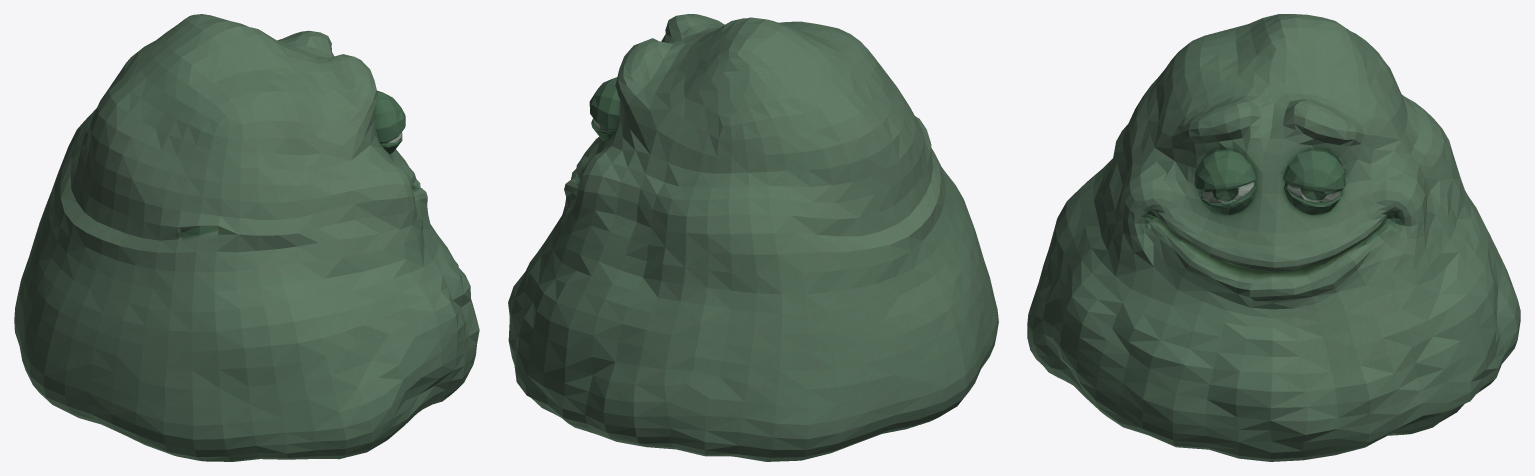
The model's file is noor.glb.
3 views of the same model, side by side, from view 1: azimuth 30°, elevation 25°; view 2: azimuth 150°, elevation 25°; view 3: azimuth 270°, elevation 25° (orthographic). The views are drawn at different scales.
Parts seen in each view (by area): view 1: tripo_node_345e141f-23c8-4f5f-a765-bebebd271023; view 2: tripo_node_345e141f-23c8-4f5f-a765-bebebd271023; view 3: tripo_node_345e141f-23c8-4f5f-a765-bebebd271023.
Part boxes in pixels (x1,y1,x2,y2): tripo_node_345e141f-23c8-4f5f-a765-bebebd271023: [14, 14, 479, 461]; tripo_node_345e141f-23c8-4f5f-a765-bebebd271023: [508, 14, 998, 461]; tripo_node_345e141f-23c8-4f5f-a765-bebebd271023: [1027, 14, 1520, 461].
Bounding box in the file's own units: 0.9316 × 0.7832 × 0.998.
1 material, 1 textured.
